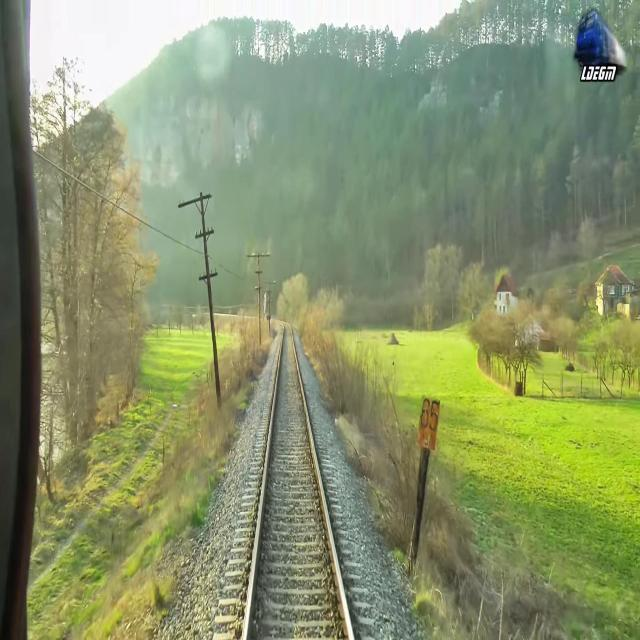rail-track: (247, 324, 348, 639)
